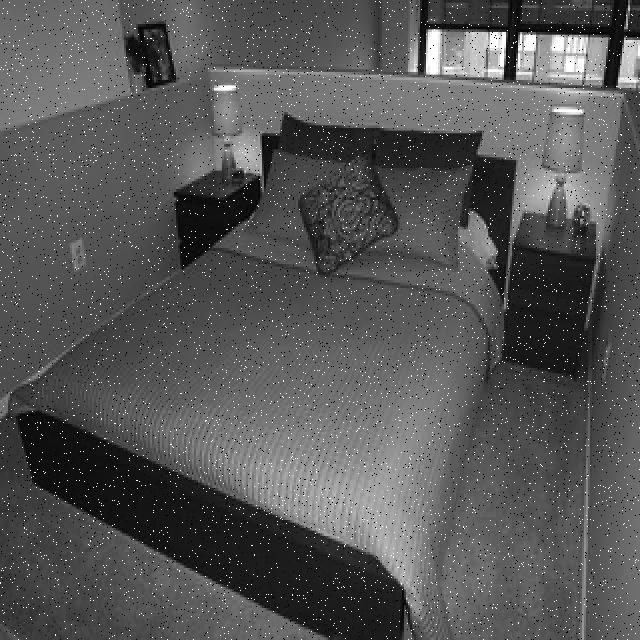bed: (24, 120, 498, 636)
